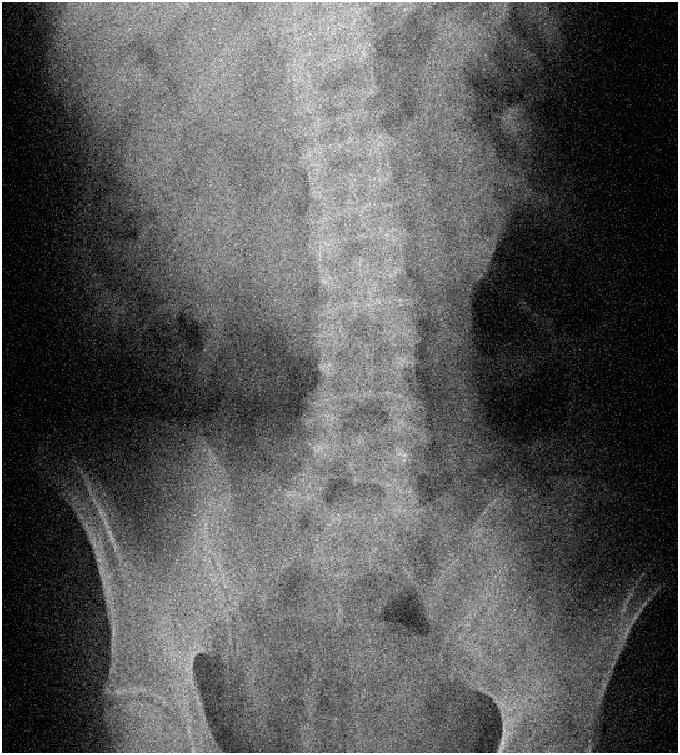lumbar scoliosis: (282, 113, 435, 531)
